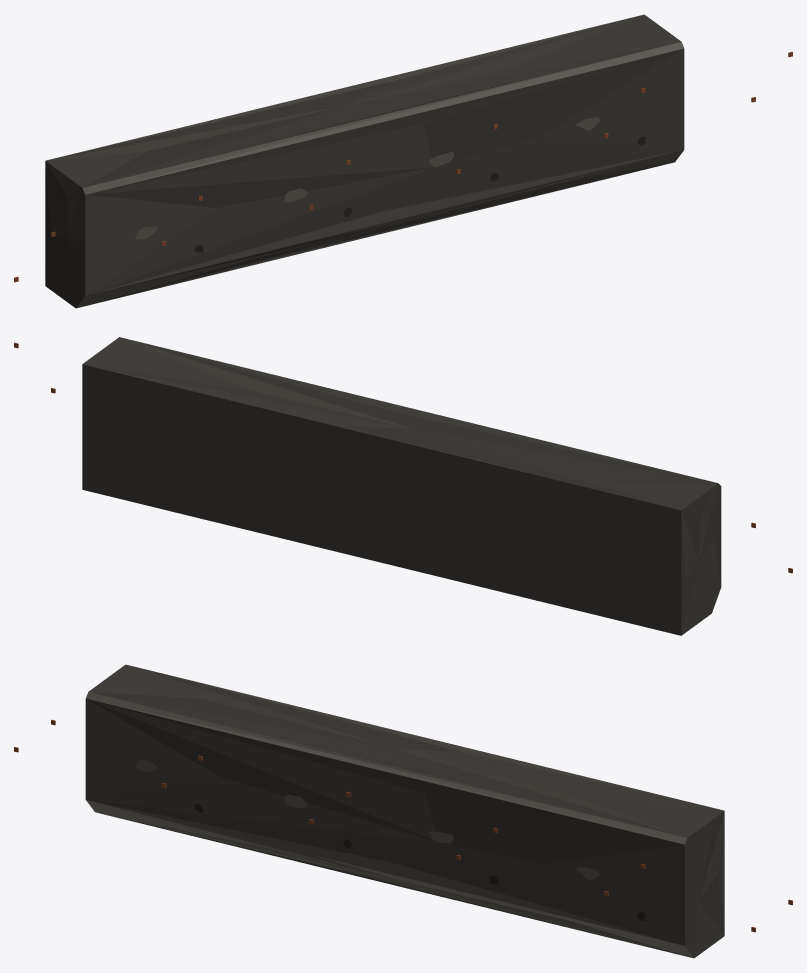
Rendered from slab_bunker_concrete_normal.glb.
3 views of the same model, one above another, from view 1: azimuth 30°, elevation 25°; view 2: azimuth 150°, elevation 25°; view 3: azimuth 330°, elevation 25° (orthographic).
Visible parts, largest first — view 1: slab_bunker_concrete_normal; view 2: slab_bunker_concrete_normal; view 3: slab_bunker_concrete_normal.
Boxes of the visible parts, x1=… form: slab_bunker_concrete_normal: x1=14, y1=14, x2=792, y2=308; slab_bunker_concrete_normal: x1=14, y1=337, x2=792, y2=635; slab_bunker_concrete_normal: x1=14, y1=664, x2=792, y2=958.
Bounding box in the file's own units: 6.75 × 1.04 × 0.609.
Materials: 1 (1 with a texture image).
